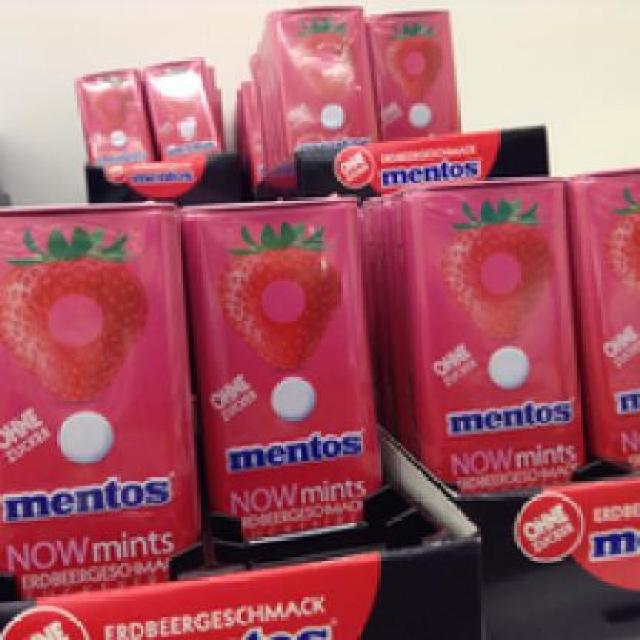Candy: (0, 200, 192, 586), (182, 194, 388, 546), (409, 174, 580, 492), (269, 2, 380, 152), (360, 8, 460, 138), (140, 54, 223, 160), (75, 63, 152, 166)
